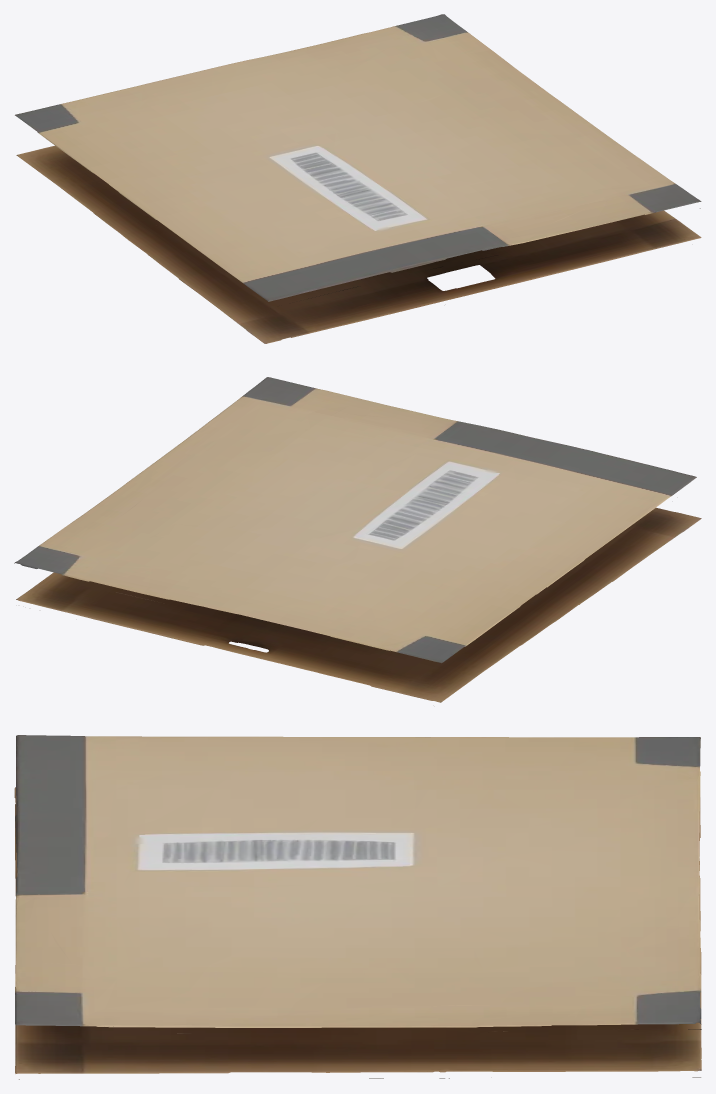
3 renders of one model, top to bottom at view 1: azimuth 30°, elevation 25°; view 2: azimuth 150°, elevation 25°; view 3: azimuth 270°, elevation 25°, orthographic. The views are drawn at different scales.
Visible parts, largest first — view 1: geometry_0; view 2: geometry_0; view 3: geometry_0.
Boxes of the visible parts, x1,y1,x2,y2 form: geometry_0: (15,14,701,343); geometry_0: (14,377,701,702); geometry_0: (14,735,701,1079).
Bounding box in the file's own units: 0.9816 × 0.1063 × 0.9977.
1 material, 1 textured.
